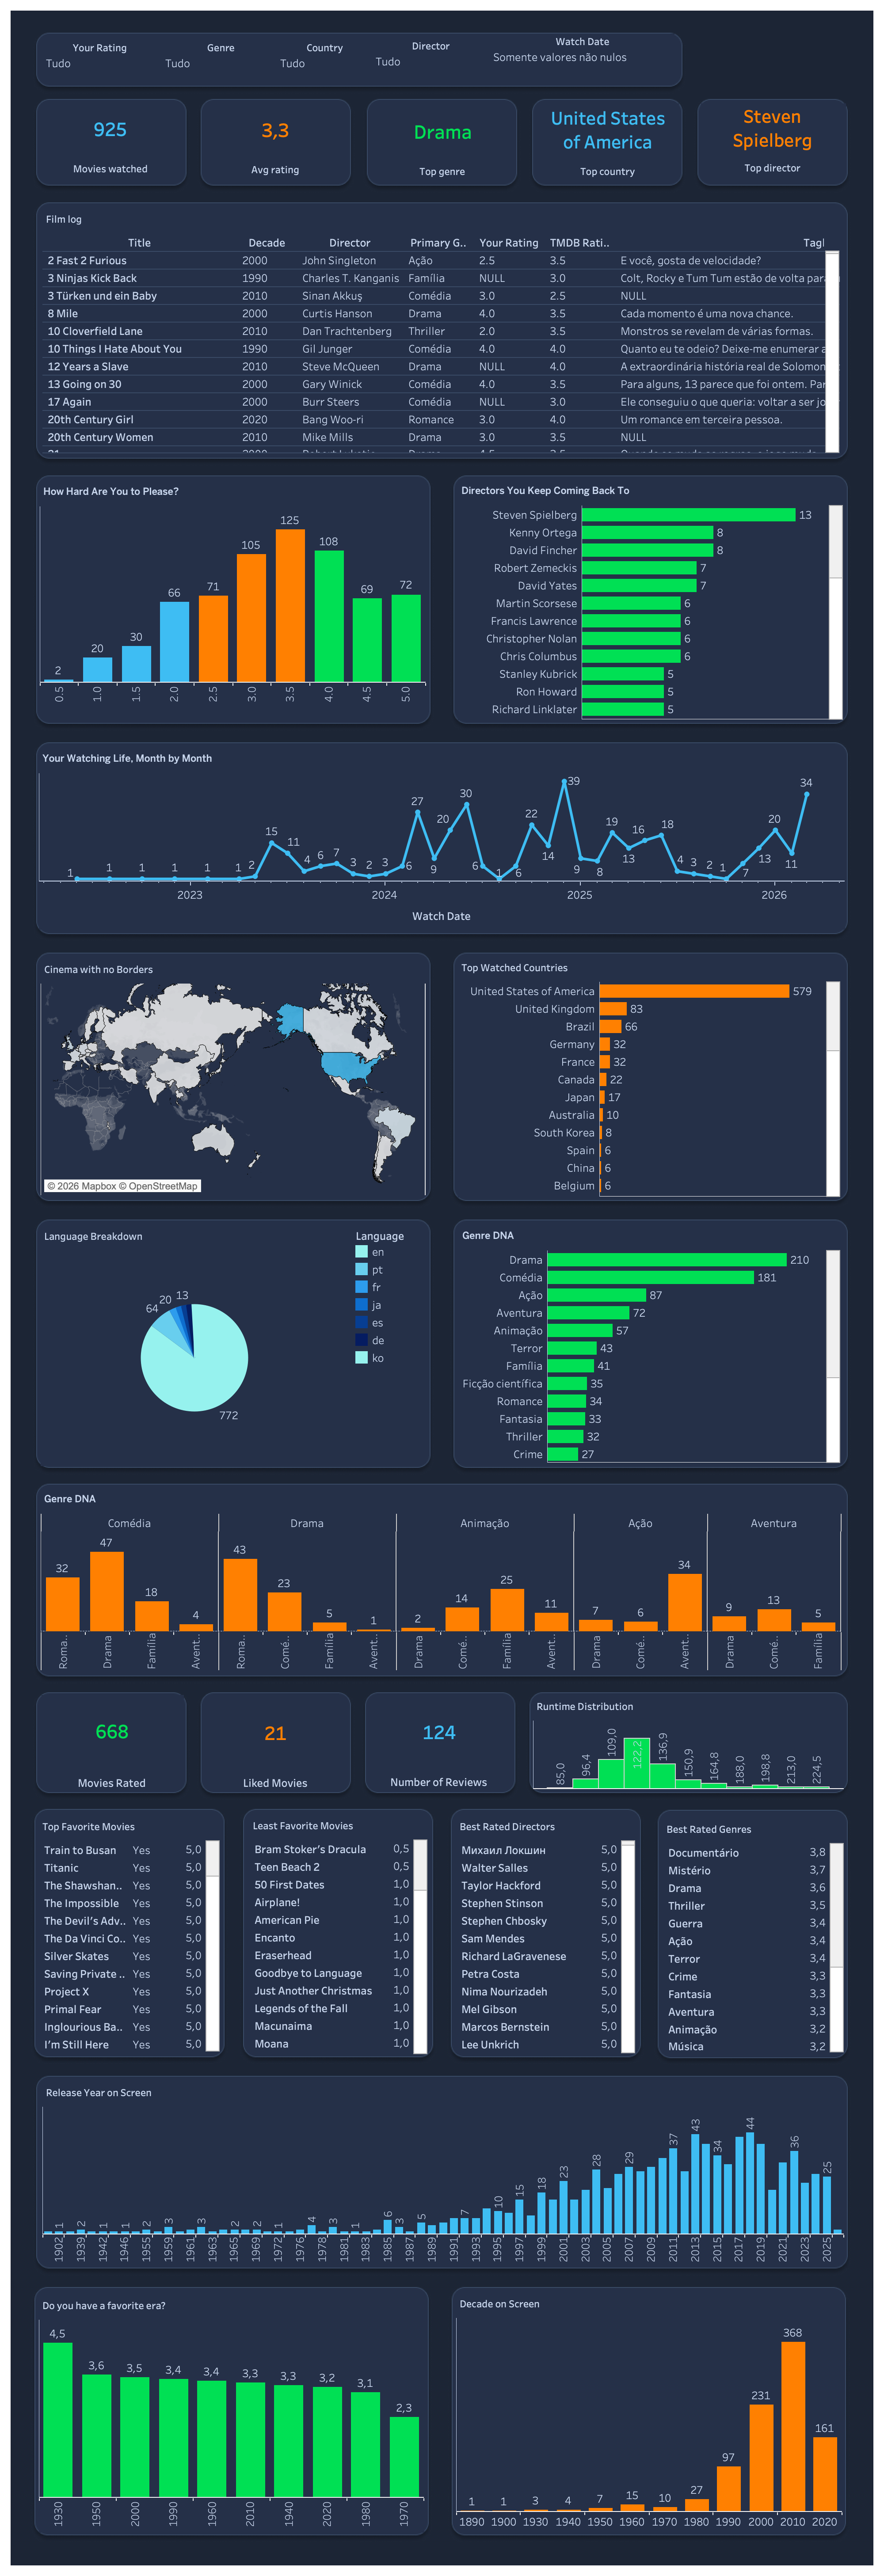

The dashboard page shown, as its layout file describes it:
{"tool":"tableau","page":{"name":"Your Taste","canvas":[1000,2915],"ordinal":2},"visuals":[{"type":"image","param":"/Users/jamille.ghazaleh/Downloads/Github/letterboxd/layout/Section 1 (3).png","box":[8,8,984,2899]},{"type":"image","param":"/Users/jamille.ghazaleh/Downloads/Github/letterboxd/png-transparent-letterboxd-l","box":[806,35,133,55]},{"type":"filter","title":"Your Watching Life, Month by Month","param":"[federated.05zg4a00elwfq8104ltzm1jy10jv].[tmn:Watch Date:qk]","box":[555,38,208,58]},{"type":"filter","title":"Top director","param":"[federated.05zg4a00elwfq8104ltzm1jy10jv].[none:Director:nk]","box":[423,43,129,47]},{"type":"filter","title":"How Hard Are You to Please?","param":"[federated.05zg4a00elwfq8104ltzm1jy10jv].[none:Your Rating:nk]","box":[50,45,126,46]},{"type":"filter","title":"Top Genre","param":"[federated.1inbq401dqdez41g7rrbr0ykowtq].[none:Primary Genre:nk]","box":[185,45,130,47]},{"type":"filter","title":"Top country","param":"[federated.05zg4a00elwfq8104ltzm1jy10jv].[none:Production Country:nk]","box":[315,45,105,45]},{"type":"worksheet","title":"Movies watched","mark":"Automatic","box":[49,117,153,81]},{"type":"worksheet","title":"Top country","mark":"Automatic","box":[609,117,158,84]},{"type":"worksheet","title":"Top director","mark":"Automatic","box":[793,117,163,80]},{"type":"worksheet","title":"Avg Rating","mark":"Automatic","box":[232,119,160,80]},{"type":"worksheet","title":"Top Genre","mark":"Automatic","box":[421,121,160,80]},{"type":"worksheet","title":"Main Table","mark":"Automatic","rows":["Title","Decade","Director","Primary Genre","Your Rating","TMDB Rating (0-5)","Tagline"],"box":[48,234,902,279]},{"type":"worksheet","title":"Directors You Keep Coming Back To ","mark":"Automatic","rows":["Director"],"cols":["Title"],"box":[518,543,436,271]},{"type":"worksheet","title":"How Hard Are You to Please?","mark":"Automatic","rows":["Title"],"cols":["Your Rating"],"box":[45,544,436,268]},{"type":"worksheet","title":"Your Watching Life, Month by Month","mark":"Line","rows":["Title"],"cols":["Watch Date"],"box":[44,846,911,206]},{"type":"worksheet","title":"Top Watched Countries","mark":"Automatic","rows":["Production Country"],"cols":["Title"],"box":[518,1081,433,273]},{"type":"worksheet","title":"Country","mark":"Multipolygon","box":[46,1083,436,270]},{"type":"worksheet","title":"Language Breakdown ","mark":"Pie","box":[46,1385,348,273]},{"type":"worksheet","title":"Genre DNA (2)","mark":"Automatic","rows":["Primary Genre"],"cols":["Title"],"box":[519,1386,432,269]},{"type":"legend","title":"Language Breakdown ","param":"[federated.05zg4a00elwfq8104ltzm1jy10jv].[none:Original Language:nk]","box":[399,1388,80,242]},{"type":"worksheet","title":"Genre DNA ","mark":"Automatic","rows":["Title"],"cols":["Primary Genre","Secondary Genre"],"box":[46,1684,906,208]},{"type":"worksheet","title":"Runtime Distribution","mark":"Automatic","rows":["Runtime (min)"],"cols":["Runtime (min) (compartimento)"],"box":[603,1917,351,107]},{"type":"worksheet","title":"Movies Rated","mark":"Automatic","box":[47,1918,160,108]},{"type":"worksheet","title":"Number of Reviews","mark":"Automatic","box":[419,1920,156,105]},{"type":"worksheet","title":"Liked Movies","mark":"Automatic","box":[232,1922,160,104]},{"type":"worksheet","title":"Least Favorite Movies","mark":"Automatic","rows":["Title"],"box":[282,2052,202,272]},{"type":"worksheet","title":"Top Favorite Movies","mark":"Automatic","rows":["Title","Liked"],"box":[44,2053,205,268]},{"type":"worksheet","title":"Best Rated Directors","mark":"Automatic","rows":["Director"],"box":[516,2053,203,270]},{"type":"worksheet","title":"Best Rated Genres","mark":"Automatic","rows":["Primary Genre"],"box":[750,2056,205,266]},{"type":"worksheet","title":"Release Year on Screen","mark":"Automatic","rows":["Title"],"cols":["Year"],"box":[48,2354,906,207]},{"type":"worksheet","title":"Decade on Screen","mark":"Automatic","rows":["Title"],"cols":["Decade"],"box":[516,2593,436,270]},{"type":"worksheet","title":"Do you have a favorite era?","mark":"Automatic","rows":["Calculation_0782290033889281"],"cols":["Decade"],"box":[44,2595,435,271]}]}

Visuals, with their boxes in screenshot pixels (x1, y1, x2, y2), scaled from the page's 1000x2915 canvas onto the 884x2576 screenshot:
image: 7,7,877,2569
image: 713,31,830,80
"Your Watching Life, Month by Month" filter: 491,34,674,85
"Top director" filter: 374,38,488,80
"How Hard Are You to Please?" filter: 44,40,156,80
"Top Genre" filter: 164,40,278,81
"Top country" filter: 278,40,371,80
"Movies watched" worksheet: 43,103,179,175
"Top country" worksheet: 538,103,678,178
"Top director" worksheet: 701,103,845,174
"Avg Rating" worksheet: 205,105,347,176
"Top Genre" worksheet: 372,107,514,178
"Main Table" worksheet: 42,207,840,453
"Directors You Keep Coming Back To " worksheet: 458,480,843,719
"How Hard Are You to Please?" worksheet: 40,481,425,718
"Your Watching Life, Month by Month" worksheet (Line marks): 39,748,844,930
"Top Watched Countries" worksheet: 458,955,841,1197
"Country" worksheet (Multipolygon marks): 41,957,426,1196
"Language Breakdown " worksheet (Pie marks): 41,1224,348,1465
"Genre DNA (2)" worksheet: 459,1225,841,1463
"Language Breakdown " legend: 353,1227,423,1440
"Genre DNA " worksheet: 41,1488,842,1672
"Runtime Distribution" worksheet: 533,1694,843,1789
"Movies Rated" worksheet: 42,1695,183,1790
"Number of Reviews" worksheet: 370,1697,508,1790
"Liked Movies" worksheet: 205,1698,347,1790
"Least Favorite Movies" worksheet: 249,1813,428,2054
"Top Favorite Movies" worksheet: 39,1814,220,2051
"Best Rated Directors" worksheet: 456,1814,636,2053
"Best Rated Genres" worksheet: 663,1817,844,2052
"Release Year on Screen" worksheet: 42,2080,843,2263
"Decade on Screen" worksheet: 456,2291,842,2530
"Do you have a favorite era?" worksheet: 39,2293,423,2533
